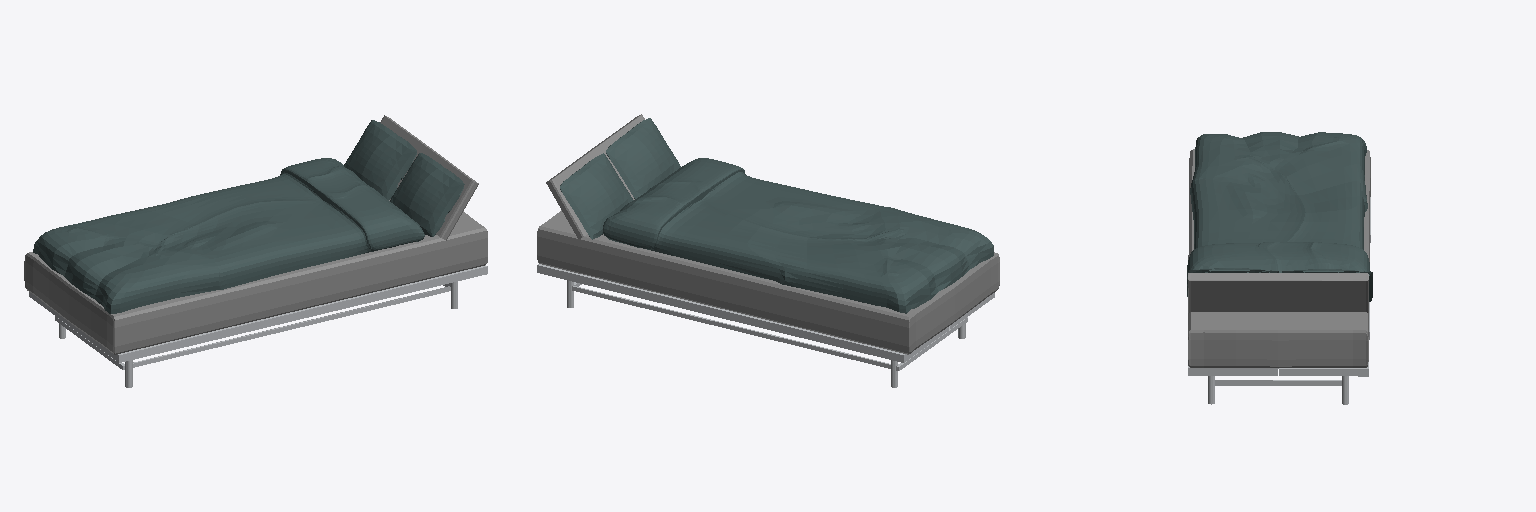
The model's file is IKEA-Beddinge_Sofa_bed_frame-3D.obj.
The picture shows the model from 3 angles: view 1: azimuth 30°, elevation 25°; view 2: azimuth 150°, elevation 25°; view 3: azimuth 270°, elevation 25°; orthographic projection.
Parts seen in each view (by area): view 1: Box02, Box03, Line02, Object04, Object05; view 2: Box02, Box03, Line02, Object05, Object04; view 3: Box02, Box03, Line02.
Part boxes in pixels (left/top/right/bottom): Box02: left=33, top=158, right=424, bottom=313; Box03: left=24, top=115, right=487, bottom=354; Line02: left=29, top=265, right=487, bottom=387; Object04: left=390, top=153, right=464, bottom=236; Object05: left=344, top=120, right=416, bottom=199; Box02: left=603, top=158, right=993, bottom=313; Box03: left=537, top=114, right=999, bottom=354; Line02: left=537, top=264, right=994, bottom=387; Object05: left=560, top=153, right=633, bottom=239; Object04: left=606, top=118, right=680, bottom=198; Box02: left=1187, top=132, right=1370, bottom=290; Box03: left=1188, top=149, right=1370, bottom=367; Line02: left=1188, top=197, right=1370, bottom=404.
Bounding box in the file's own units: 165 × 56.11 × 71.01.